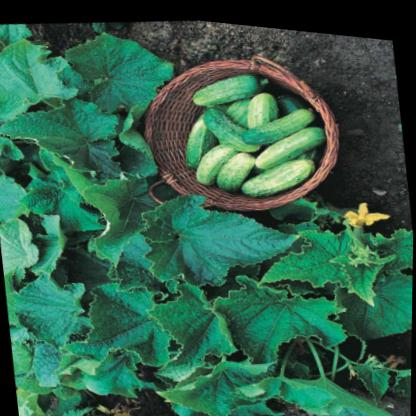cucumber: (185, 61, 268, 112), (236, 94, 314, 148), (247, 116, 321, 171), (200, 95, 257, 158), (183, 134, 237, 183)
